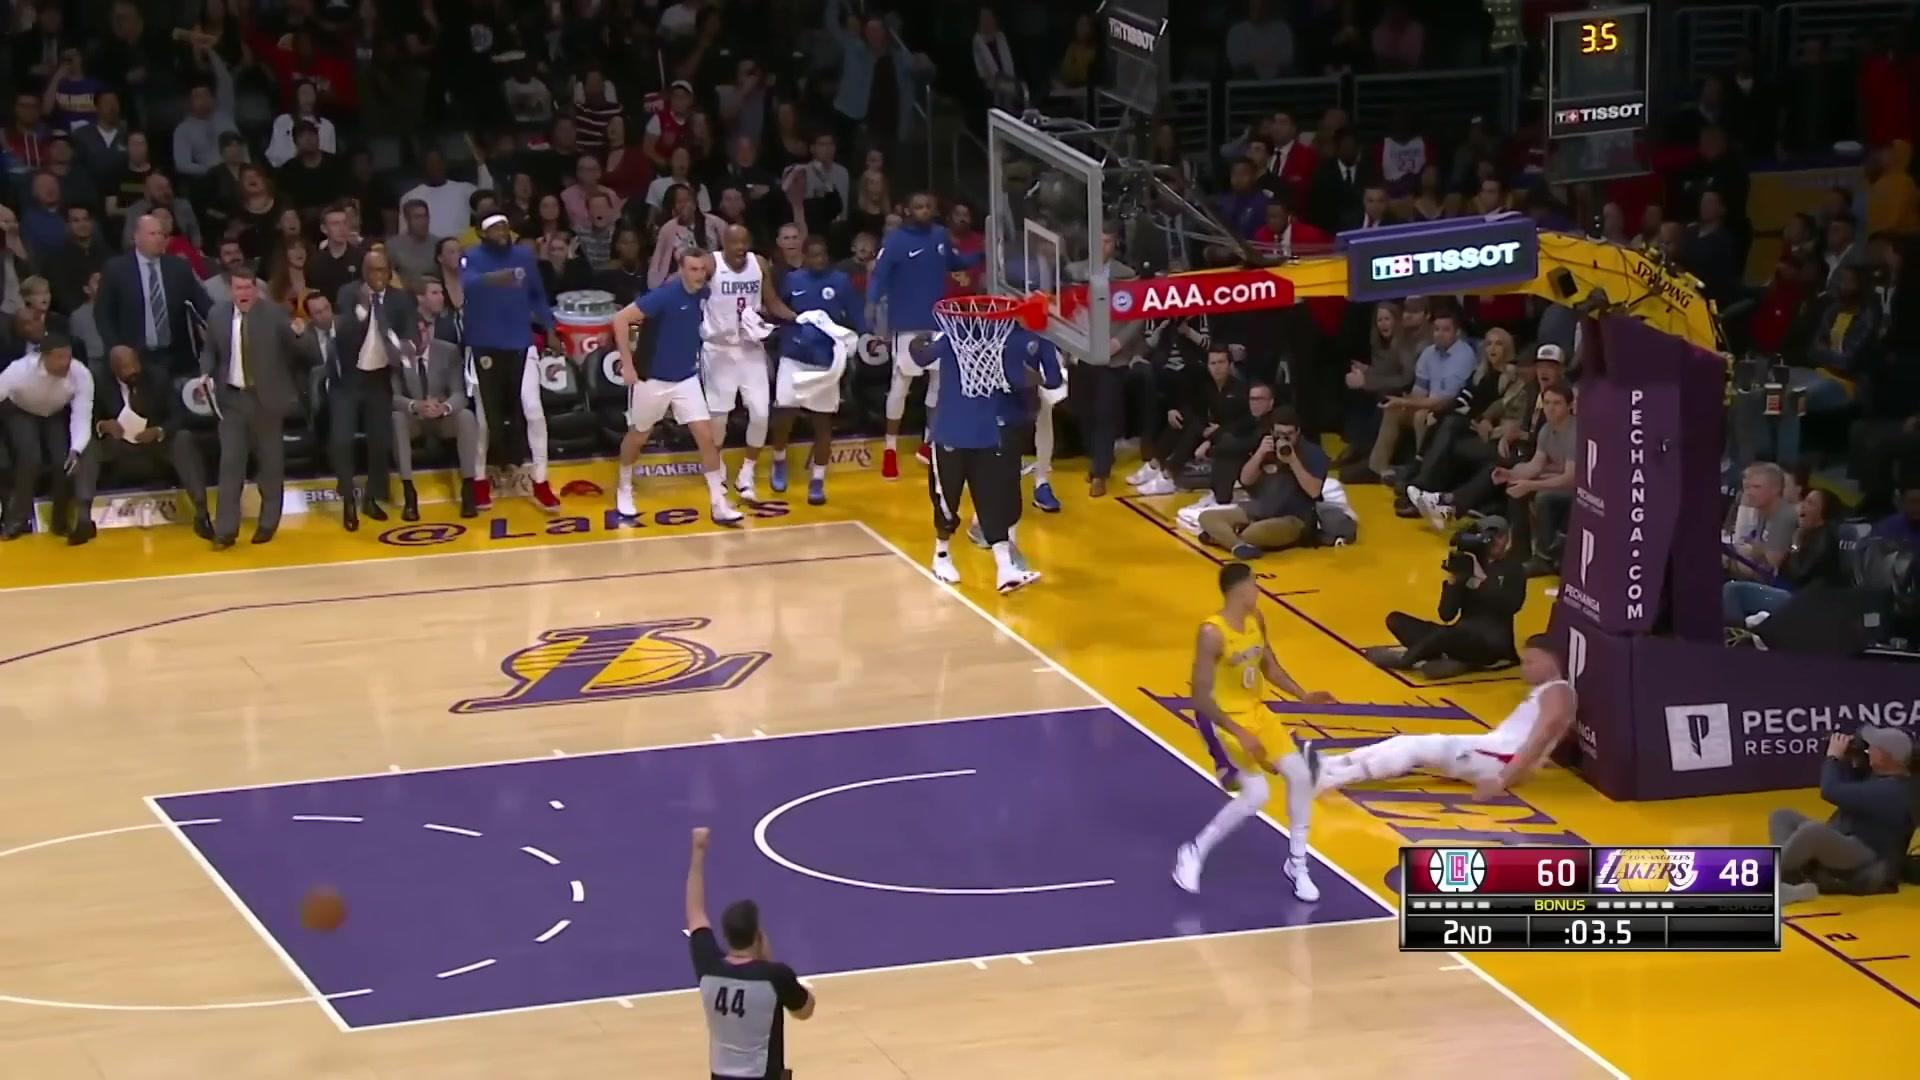foul: (1139, 575, 1564, 820)
